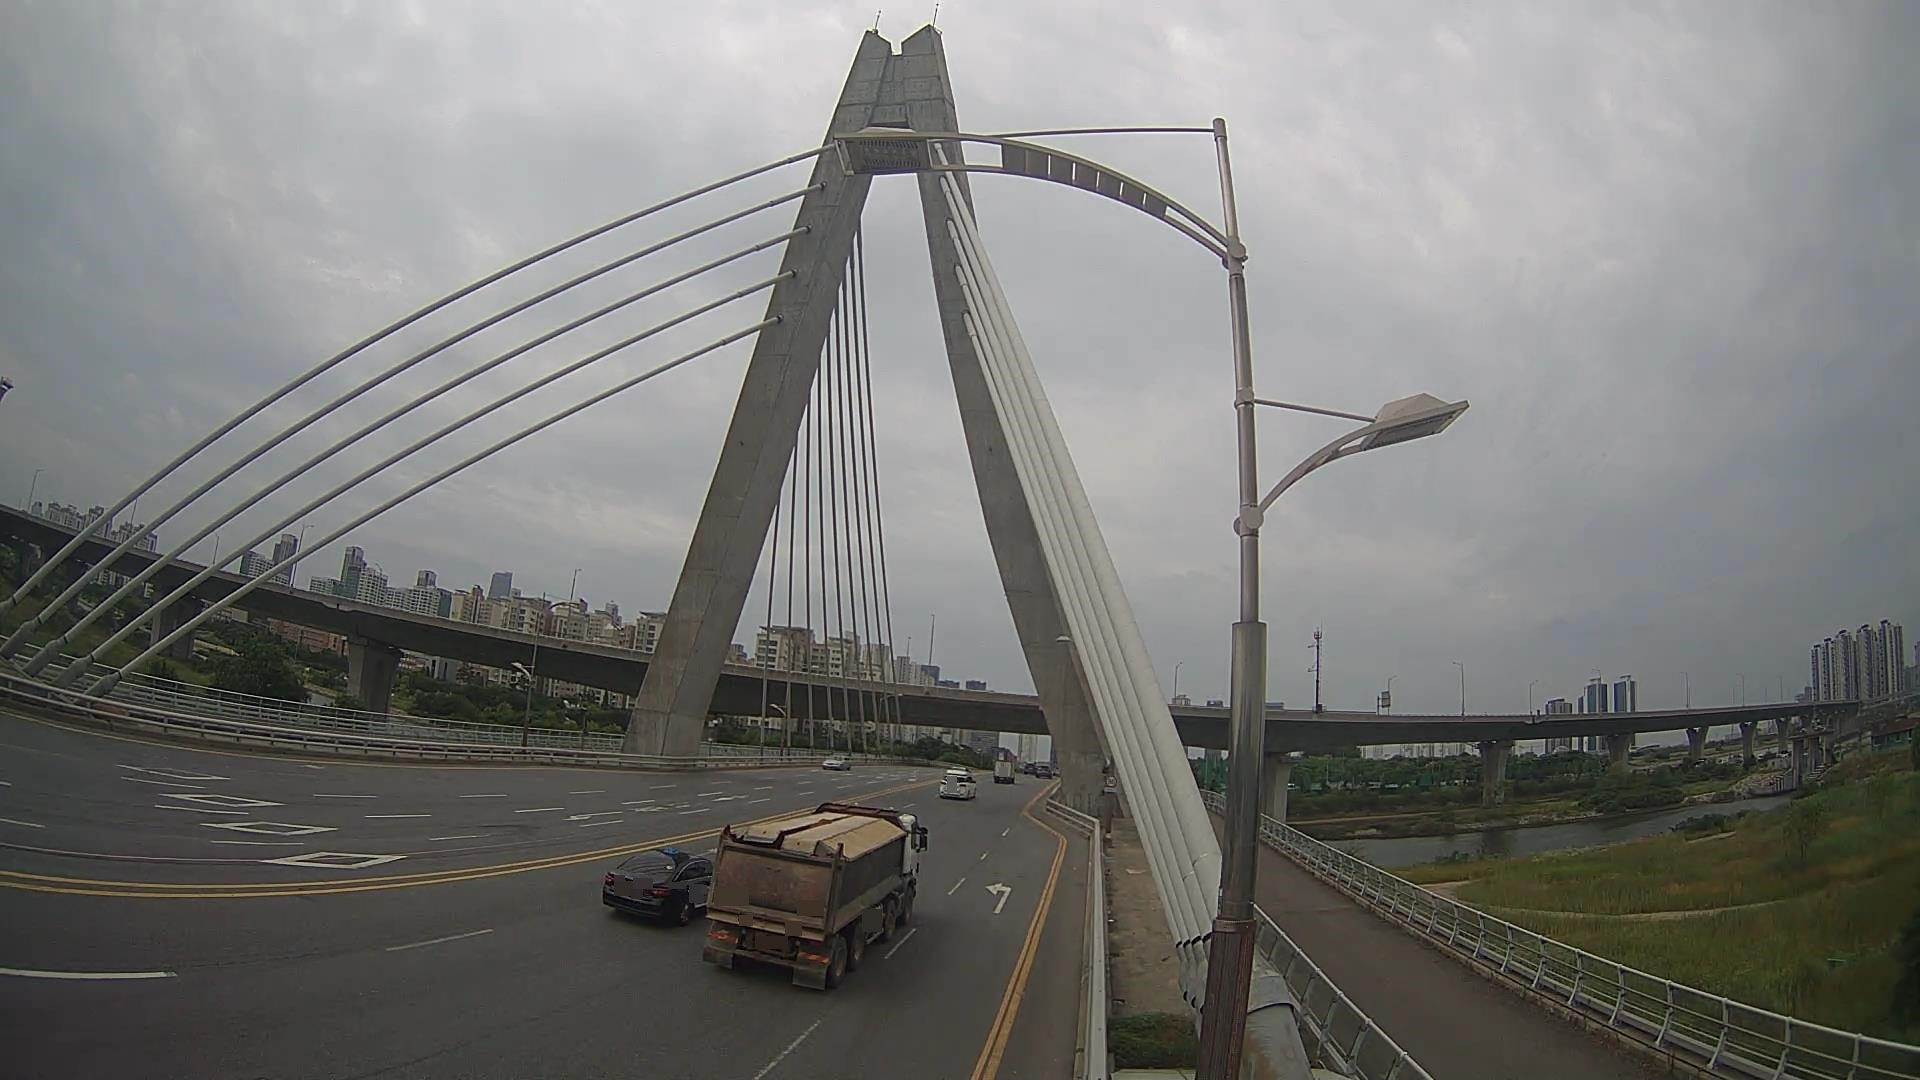정상차량: (702, 798, 931, 996)
